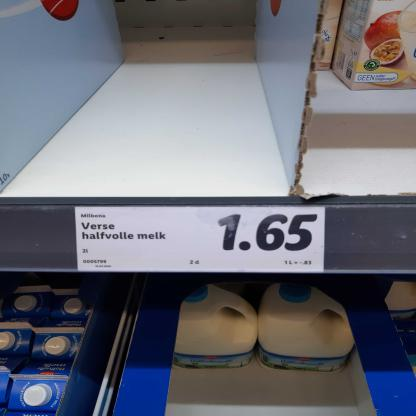prtg: (76, 208, 326, 273)
